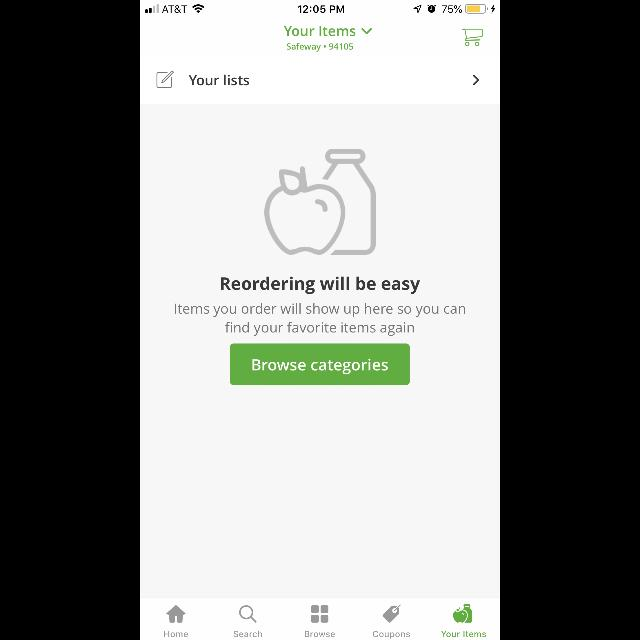icon: (462, 29, 482, 46), (156, 70, 174, 88), (383, 604, 401, 622), (167, 606, 186, 622), (240, 606, 256, 622), (312, 606, 328, 622), (473, 74, 479, 86), (362, 28, 372, 34)
image: (264, 149, 376, 255), (453, 604, 472, 622)
text: (175, 302, 465, 336), (222, 278, 420, 294), (284, 26, 356, 36), (189, 74, 249, 86), (287, 44, 353, 52), (372, 631, 410, 639), (442, 631, 486, 637), (234, 630, 262, 638), (305, 631, 335, 637), (165, 631, 189, 637)
textbutton: (230, 343, 410, 385)
uppertaskbar: (140, 0, 500, 14)
